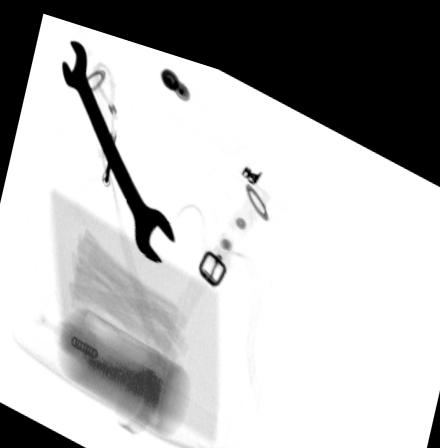Wrench: (61, 33, 176, 254)
